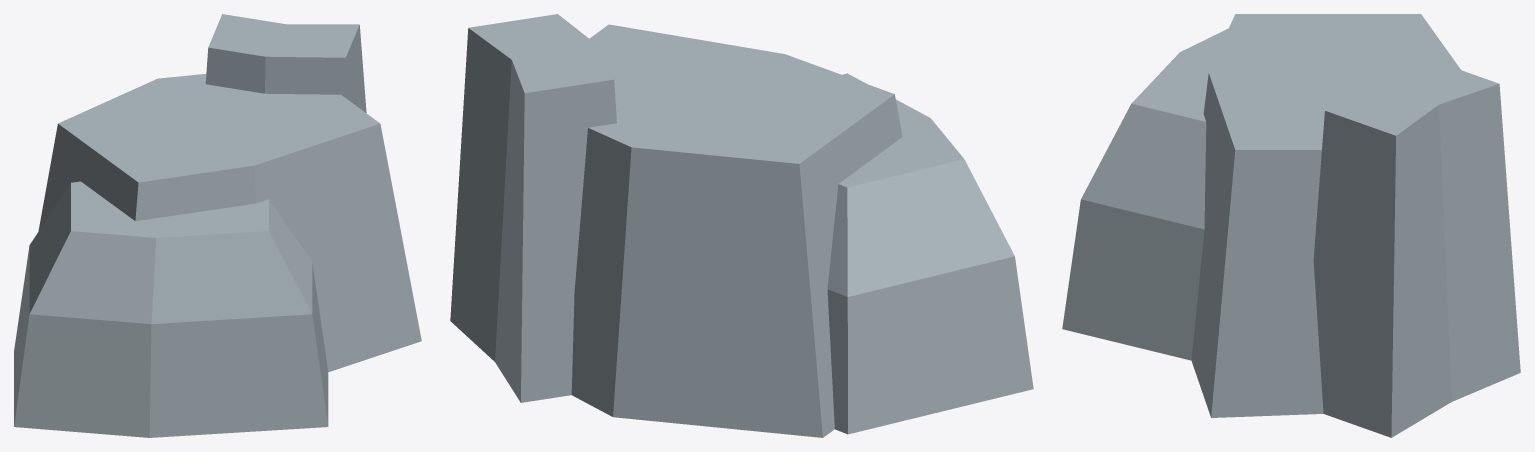
File: Rock_09.fbx
The picture shows the model from 3 angles, left to right: view 1: azimuth 30°, elevation 25°; view 2: azimuth 150°, elevation 25°; view 3: azimuth 270°, elevation 25°; orthographic projection. The views are drawn at different scales.
Visible parts, largest first — view 1: Cylinder.009; view 2: Cylinder.009; view 3: Cylinder.009.
Boxes of the visible parts, left/top/right/bottom form: Cylinder.009: left=14, top=14, right=421, bottom=437; Cylinder.009: left=450, top=14, right=1033, bottom=437; Cylinder.009: left=1062, top=14, right=1520, bottom=437.
Bounding box in the file's own units: 2.48 × 1.4 × 1.99.
